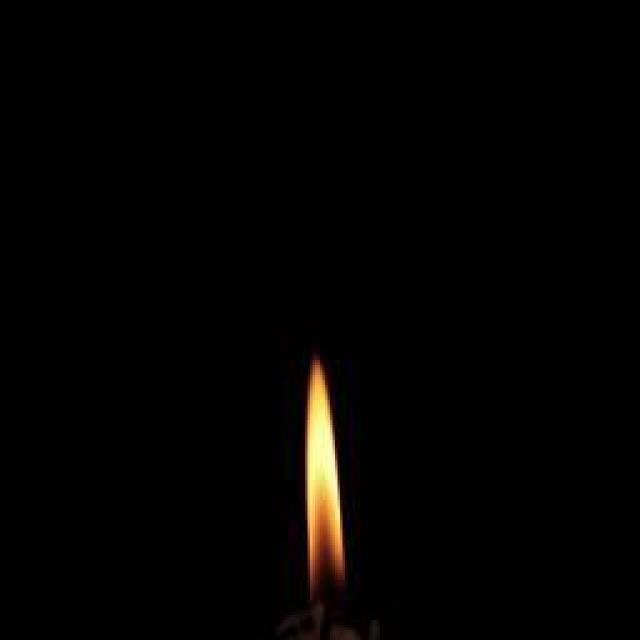Fire: (302, 361, 346, 579)
